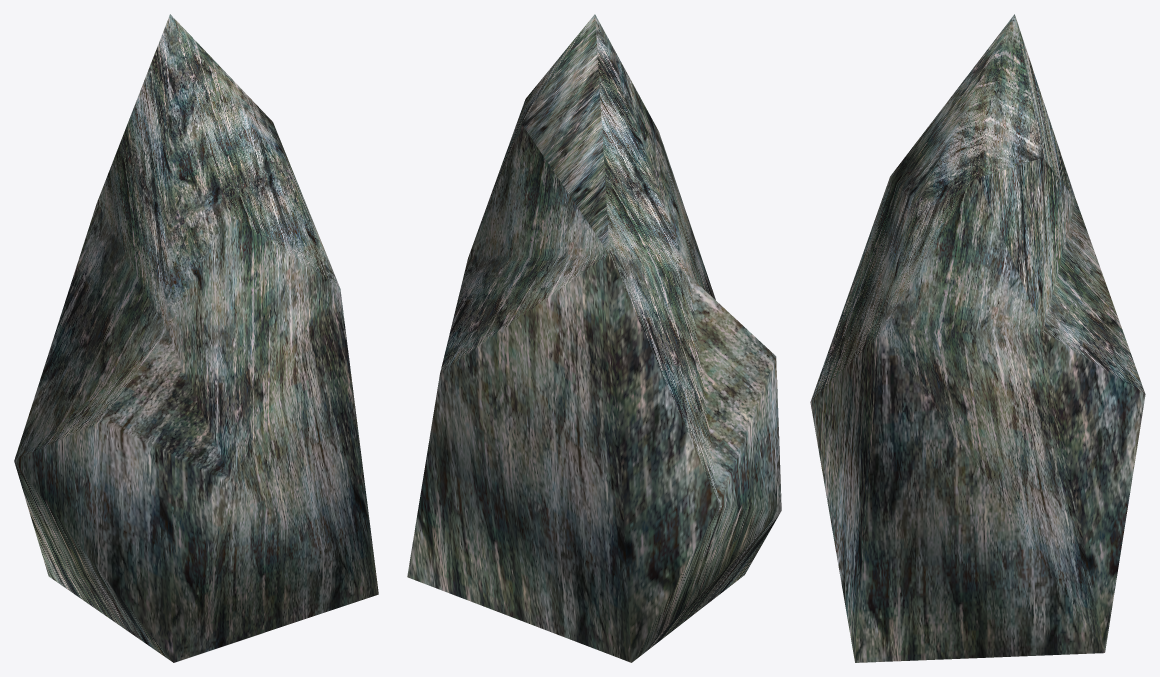
Rendered from rock_dath_desertcanyon_md_l3.fbx.
The picture shows the model from 3 angles, left to right: view 1: azimuth 30°, elevation 25°; view 2: azimuth 150°, elevation 25°; view 3: azimuth 270°, elevation 25°; orthographic projection. The views are drawn at different scales.
Parts seen in each view (by area): view 1: mesh_node; view 2: mesh_node; view 3: mesh_node.
Part boxes in pixels (x1=…): mesh_node: x1=14, y1=14, x2=378, y2=662; mesh_node: x1=407, y1=14, x2=781, y2=662; mesh_node: x1=810, y1=14, x2=1145, y2=662.
Bounding box in the file's own units: 4.02 × 8.05 × 4.05.
